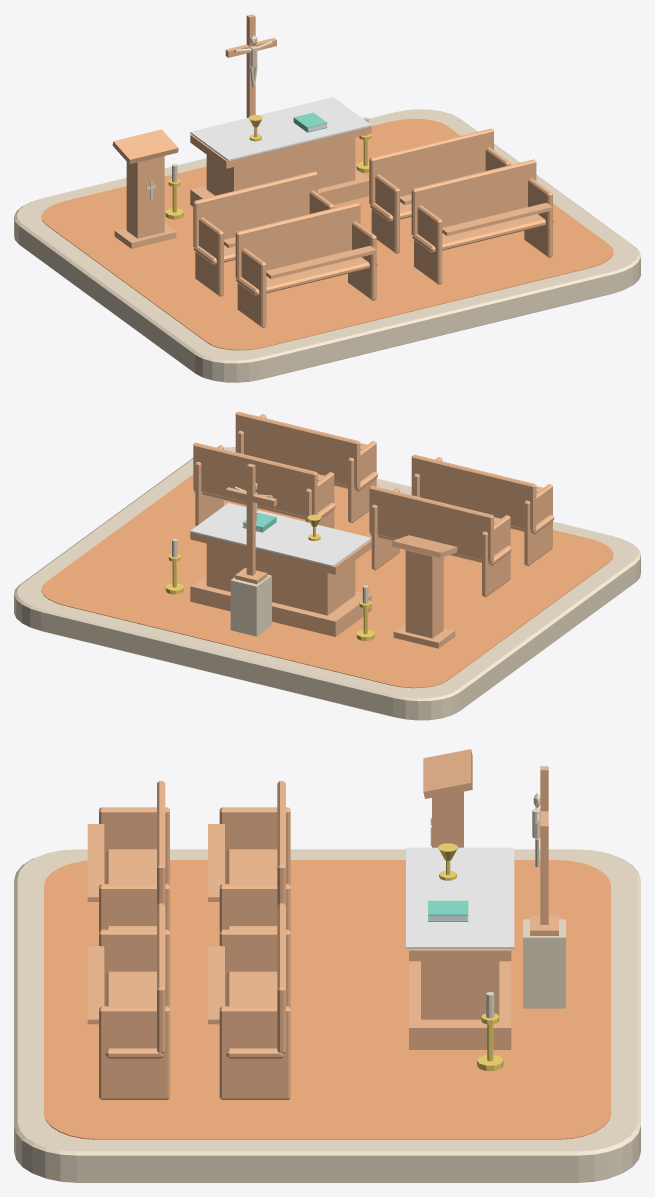
File: room.fbx
The picture shows the model from 3 angles, top to bottom: view 1: azimuth 30°, elevation 25°; view 2: azimuth 150°, elevation 25°; view 3: azimuth 270°, elevation 25°; orthographic projection. The views are drawn at different scales.
Visible parts, largest first — view 1: COM-02 Floor Surface, COM-01 Rounded Base Direct, Back.002, Back.003, Altar cloth, Back.001, Back, Altar, Body, End panel.004, End panel.006, End panel (+12 smaller); view 2: COM-02 Floor Surface, COM-01 Rounded Base Direct, Back, Back.002, Altar, Back.003, Back.001, Altar cloth, Body, Base, Display plinth, End panel.004 (+11 smaller); view 3: COM-02 Floor Surface, COM-01 Rounded Base Direct, Altar cloth, End panel.003, End panel.007, Base, Altar, Display plinth, End panel.002, End panel, End panel.006, End panel.004 (+19 smaller).
Boxes of the visible parts, left/top/right/bottom form: COM-02 Floor Surface: left=41, top=118, right=613, bottom=350; COM-01 Rounded Base Direct: left=14, top=109, right=640, bottom=382; Back.002: left=235, top=202, right=360, bottom=278; Back.003: left=411, top=159, right=536, bottom=235; Altar cloth: left=190, top=97, right=371, bottom=161; Back.001: left=369, top=128, right=493, bottom=204; Back: left=193, top=171, right=317, bottom=247; Altar: left=206, top=137, right=355, bottom=195; Body: left=126, top=156, right=164, bottom=238; End panel.004: left=237, top=248, right=266, bottom=327; End panel.006: left=414, top=205, right=442, bottom=284; End panel: left=195, top=217, right=223, bottom=296; COM-02 Floor Surface: left=41, top=474, right=613, bottom=688; COM-01 Rounded Base Direct: left=14, top=447, right=640, bottom=720; Back: left=369, top=485, right=493, bottom=562; Back.002: left=411, top=454, right=536, bottom=531; Altar: left=206, top=543, right=355, bottom=615; Back.003: left=235, top=411, right=360, bottom=488; Back.001: left=193, top=442, right=317, bottom=516; Altar cloth: left=190, top=503, right=371, bottom=567; Body: left=405, top=550, right=443, bottom=638; Base: left=190, top=574, right=371, bottom=636; Display plinth: left=230, top=574, right=271, bottom=636; End panel.004: left=524, top=484, right=552, bottom=566; COM-02 Floor Surface: left=44, top=860, right=610, bottom=1139; COM-01 Rounded Base Direct: left=14, top=849, right=640, bottom=1182; Altar cloth: left=406, top=847, right=514, bottom=949; End panel.003: left=219, top=1006, right=290, bottom=1099; End panel.007: left=99, top=1006, right=169, bottom=1099; Base: left=409, top=961, right=511, bottom=1049; Altar: left=421, top=961, right=499, bottom=1019; Display plinth: left=523, top=919, right=565, bottom=1008; End panel.002: left=219, top=929, right=290, bottom=1007; End panel: left=219, top=807, right=290, bottom=885; End panel.006: left=99, top=929, right=169, bottom=1007; End panel.004: left=99, top=807, right=169, bottom=885.
Bounding box in the file's own units: 600 × 241 × 520.
